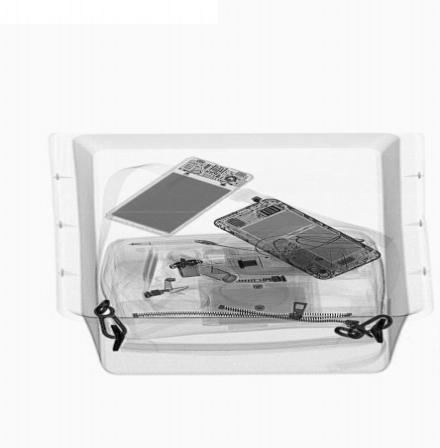Powerbank: (98, 158, 254, 240)
